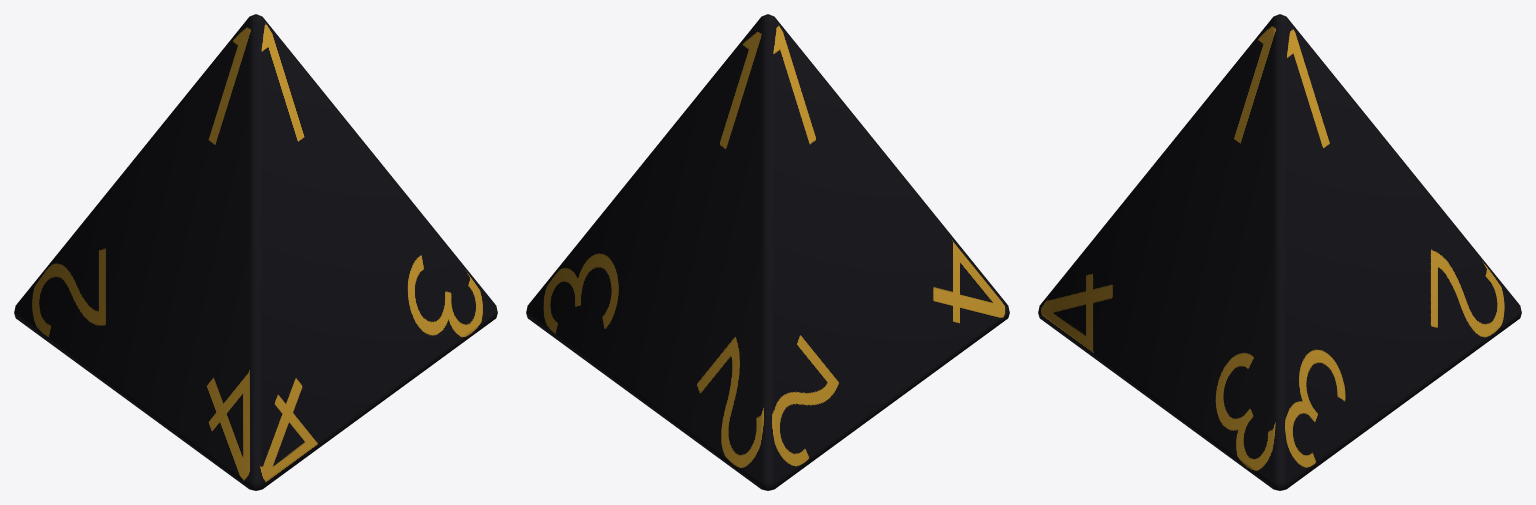
The picture shows the model from 3 angles, left to right: view 1: azimuth 30°, elevation 25°; view 2: azimuth 150°, elevation 25°; view 3: azimuth 270°, elevation 25°; orthographic projection.
Parts seen in each view (by area): view 1: d4; view 2: d4; view 3: d4.
Boxes of the visible parts, x1,y1,x2,y2 form: d4: [14, 14, 497, 490]; d4: [526, 14, 1009, 490]; d4: [1038, 14, 1521, 490].
Size of the model in its own units: 1.04 by 0.9811 by 1.19.
1 material, 1 textured.
